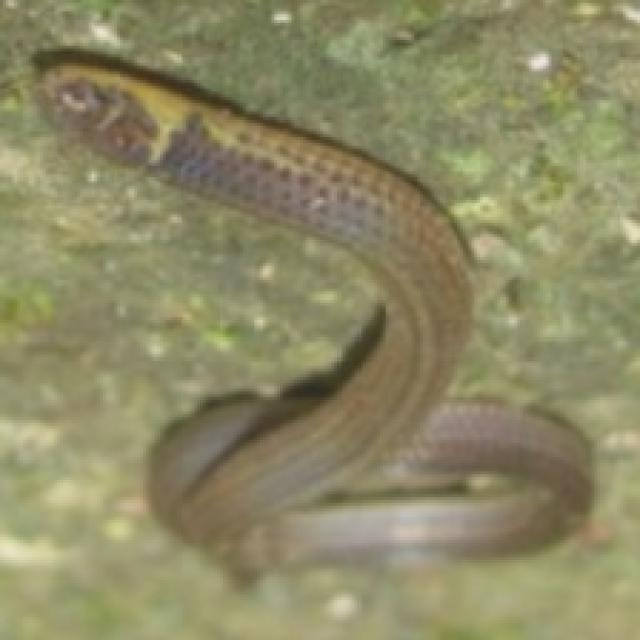gervais worm snake: (34, 49, 589, 574)
